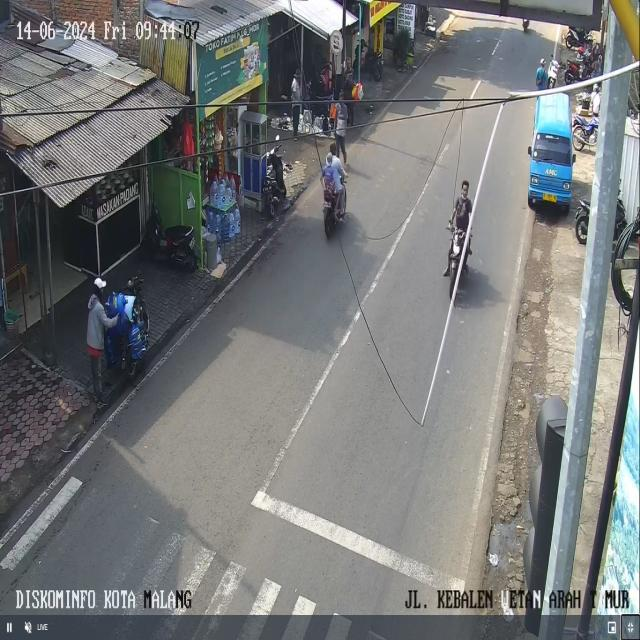Number Plate: (543, 193, 556, 202)
Rearview Mirror: (572, 153, 576, 163), (527, 146, 531, 155), (275, 134, 279, 140)
